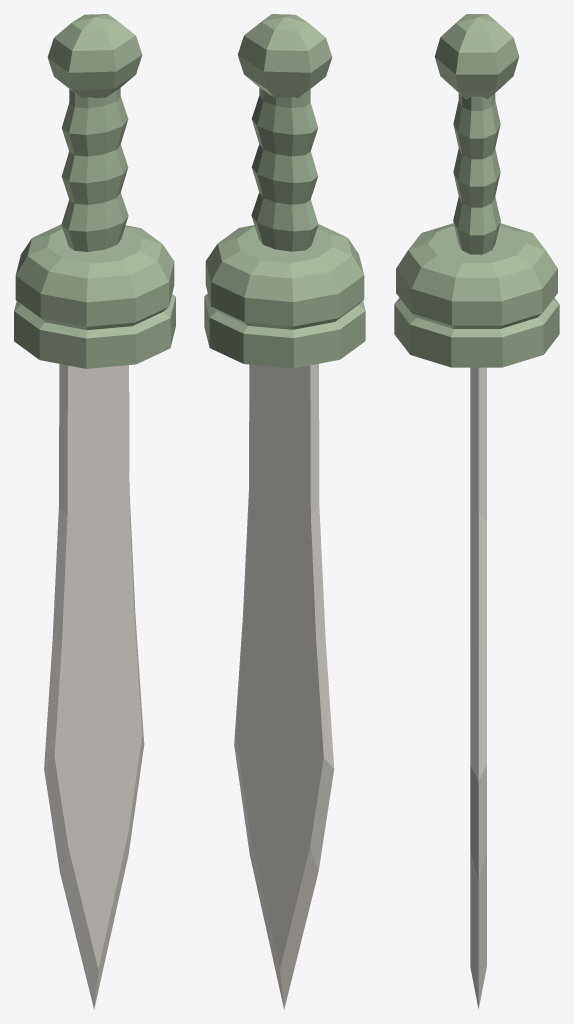
Rendered from Glaive.fbx.
3 renders of one model, left to right at view 1: azimuth 30°, elevation 25°; view 2: azimuth 150°, elevation 25°; view 3: azimuth 270°, elevation 25°, orthographic.
Visible parts, largest first — view 1: Cube, Cylinder; view 2: Cube, Cylinder; view 3: Cylinder, Cube.
Boxes of the visible parts, <box> form: Cube: <box>44,364,144,1009</box>; Cylinder: <box>14,14,175,368</box>; Cube: <box>234,363,334,1009</box>; Cylinder: <box>204,14,365,368</box>; Cylinder: <box>394,14,559,367</box>; Cube: <box>470,367,486,1008</box>.
Bounding box in the file's own units: 136 × 951 × 143.
